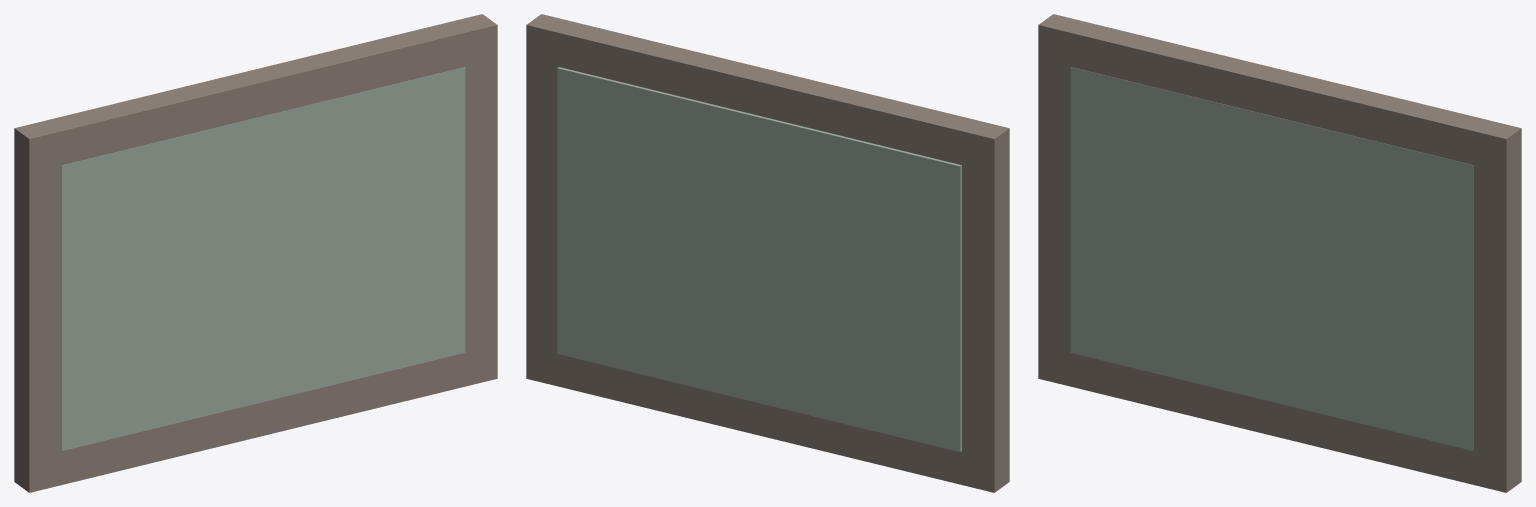
File: liv_aces_quadro.glb
3 views of the same model, side by side, from view 1: azimuth 30°, elevation 25°; view 2: azimuth 150°, elevation 25°; view 3: azimuth 330°, elevation 25° (orthographic).
Visible parts, largest first — view 1: LIV_Aces_Quadro_v01; view 2: LIV_Aces_Quadro_v01; view 3: LIV_Aces_Quadro_v01.
Part boxes in pixels (x1,y1,x2,y2): LIV_Aces_Quadro_v01: (14,14,497,492); LIV_Aces_Quadro_v01: (526,14,1009,492); LIV_Aces_Quadro_v01: (1038,14,1521,492).
Bounding box in the file's own units: 0.72 × 0.52 × 0.045.
